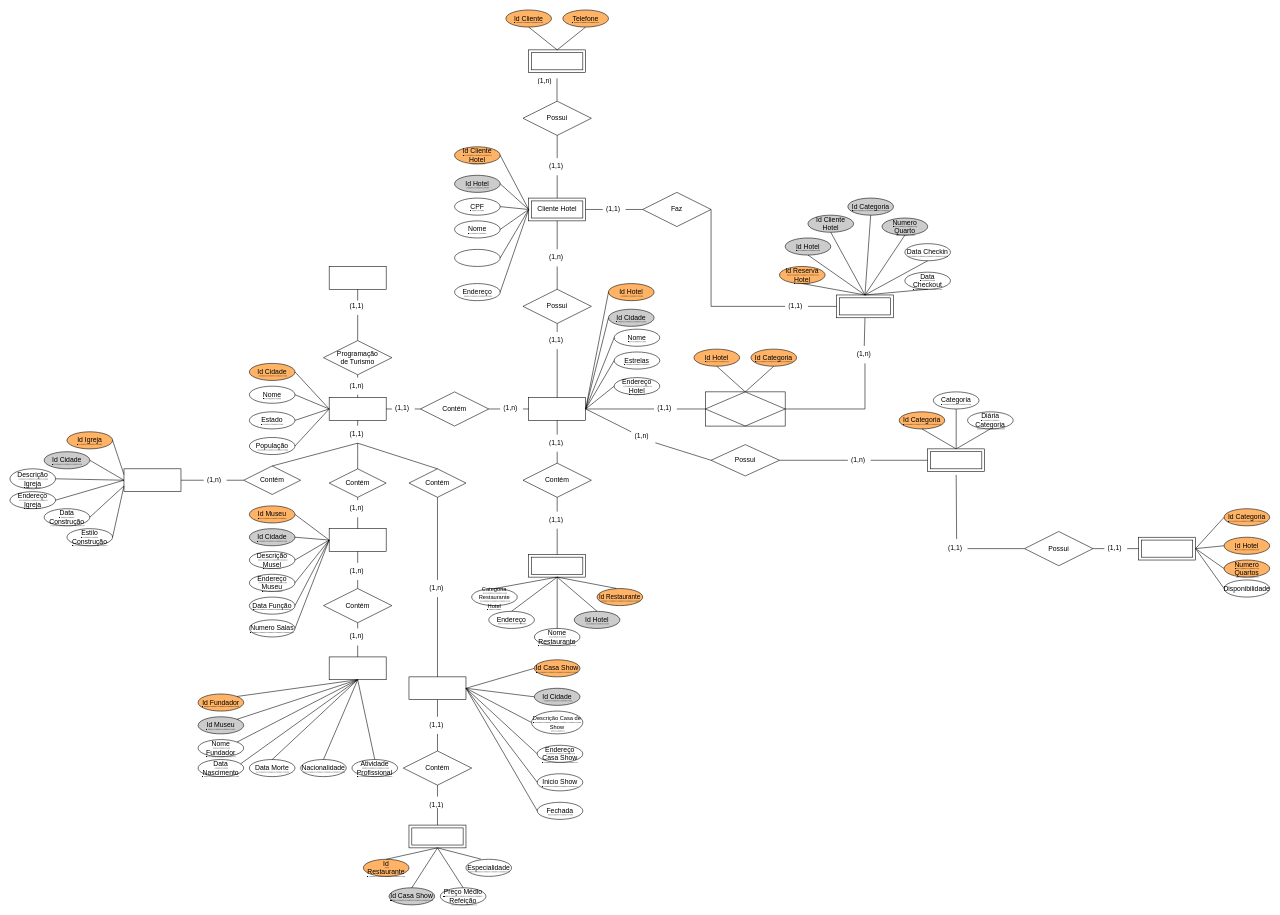
Some shapes in this 1280 by 915 pixel diagram are drawn without their labels. The centre of each missing label's shape, as x and y in pixels:
Agencia: (x=357, y=277)
Casa de show: (x=437, y=688)
Categoria Quarto: (x=956, y=460)
Cidade: (x=357, y=408)
Disponibilidade Categoria: (x=745, y=408)
Disponibilidade Quarto: (x=1167, y=548)
Fundador: (x=357, y=668)
Hotel: (x=557, y=408)
Igreja: (x=152, y=480)
Museu: (x=357, y=539)
Reserva Hotel: (x=864, y=306)
Restaurante Casa de Show: (x=437, y=836)
Restaurante Hotel: (x=557, y=565)
Sobrenome: (x=477, y=257)
Telefone Cliente: (x=557, y=61)
